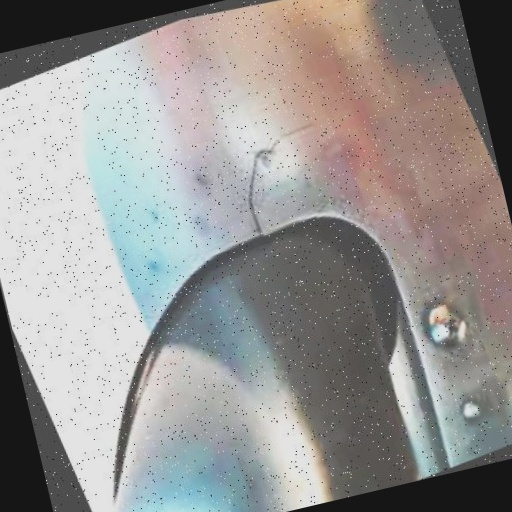crack: (208, 111, 345, 245)
